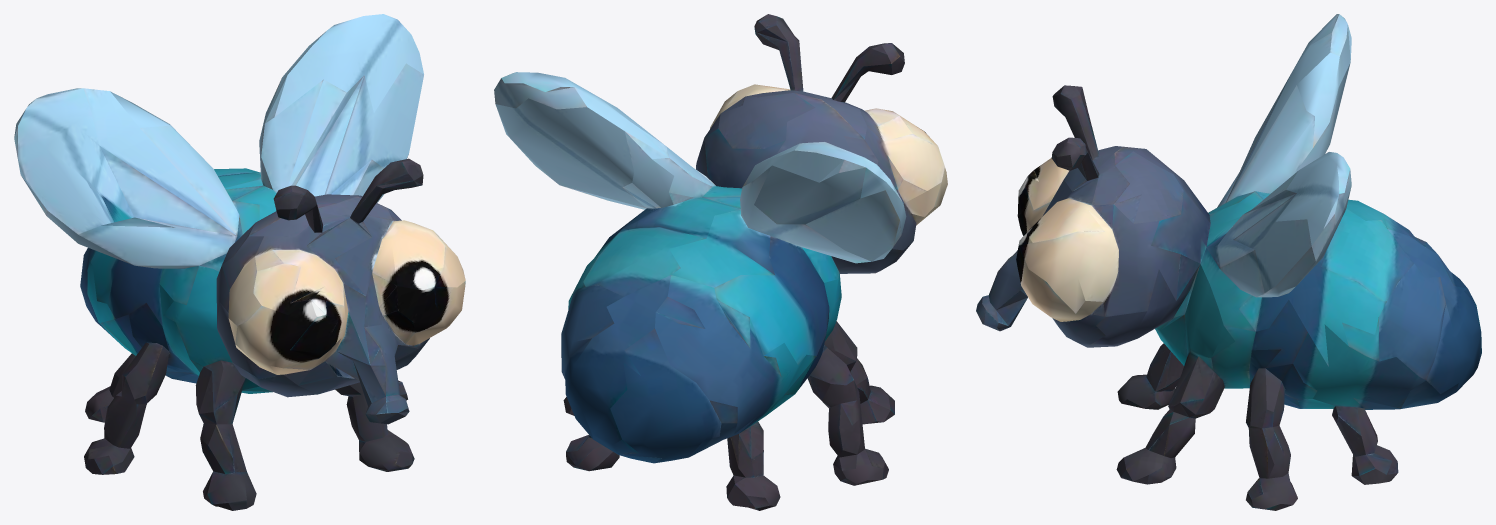
The model's file is fly.glb.
3 renders of one model, left to right at view 1: azimuth 30°, elevation 25°; view 2: azimuth 150°, elevation 25°; view 3: azimuth 270°, elevation 25°, orthographic. The views are drawn at different scales.
Bounding box in the file's own units: 1.69 × 1.44 × 1.9.
Materials: 1 (1 with a texture image).
